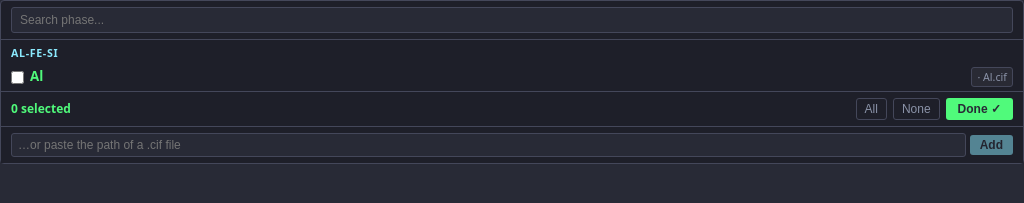
with onAddPath › keeps what was typed and says what is wrong, in words, when the server refuses
The image size is (1024, 203).
Step 1. Type "/a/nope.cif" into the field with placeholder "…or paste the path of a .cif file" → (488, 145), box [11,133,966,157]
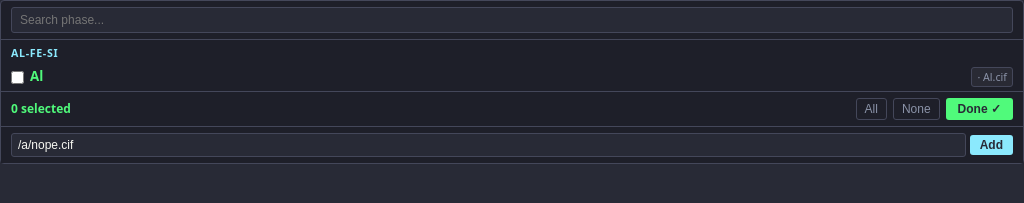
Step 2. Click the button "Add" → (991, 145), box [970,135,1013,155]
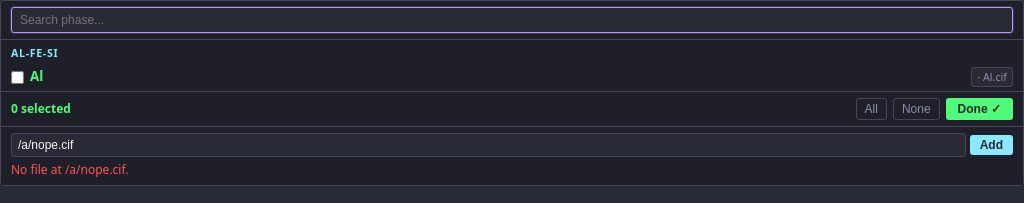
Expected: the text "No file at /a/nope.cif." is shown, [11,161,129,178]
